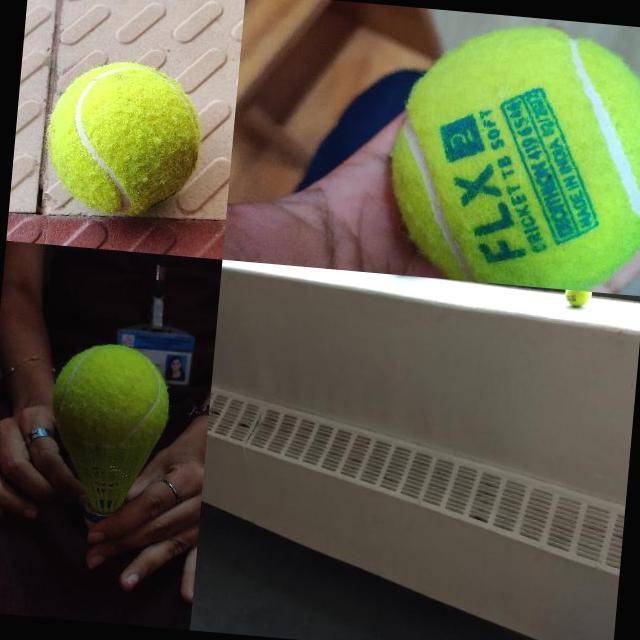Tennis Ball: (380, 14, 640, 295), (42, 55, 206, 218), (49, 340, 172, 435), (562, 290, 592, 308)
